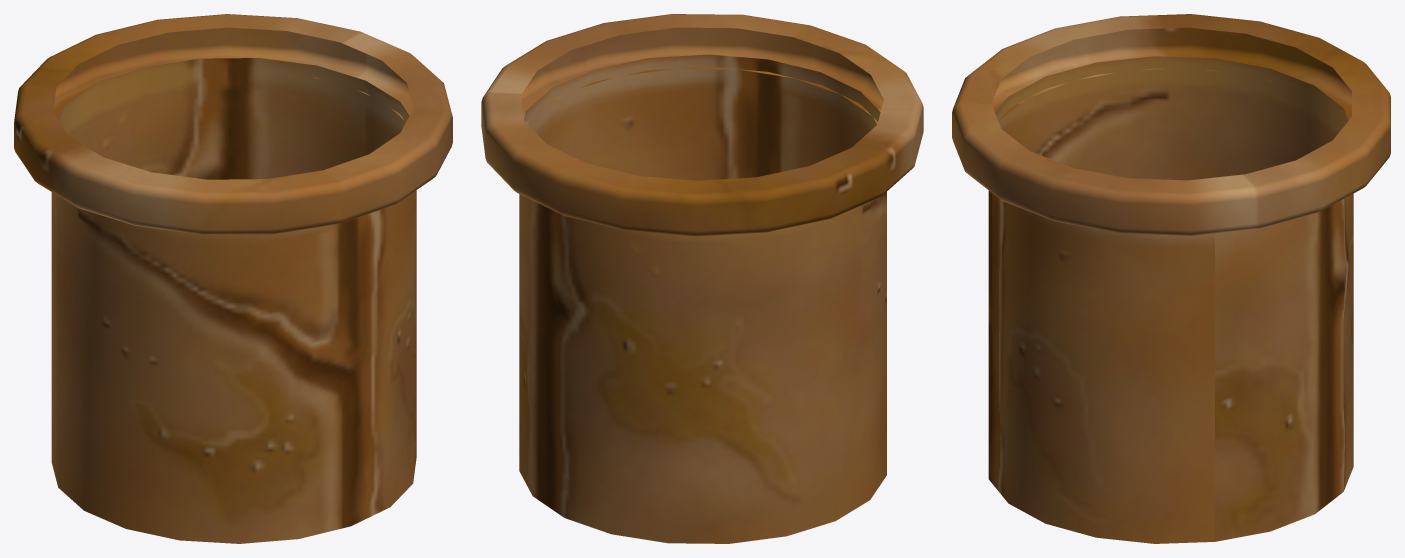
Rendered from StraightPipe.fbx.
3 renders of one model, left to right at view 1: azimuth 30°, elevation 25°; view 2: azimuth 150°, elevation 25°; view 3: azimuth 270°, elevation 25°, orthographic.
Visible parts, largest first — view 1: 01_01_0; view 2: 01_01_0; view 3: 01_01_0.
Boxes of the visible parts, x1,y1,x2,y2 form: 01_01_0: [14, 14, 452, 543]; 01_01_0: [481, 14, 923, 543]; 01_01_0: [952, 14, 1390, 543].
Size of the model in its own units: 48.14 by 43.73 by 47.98.
Materials: 1 (1 with a texture image).
